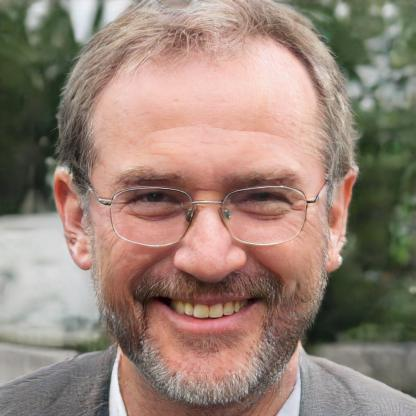glasses: (93, 180, 319, 250)
